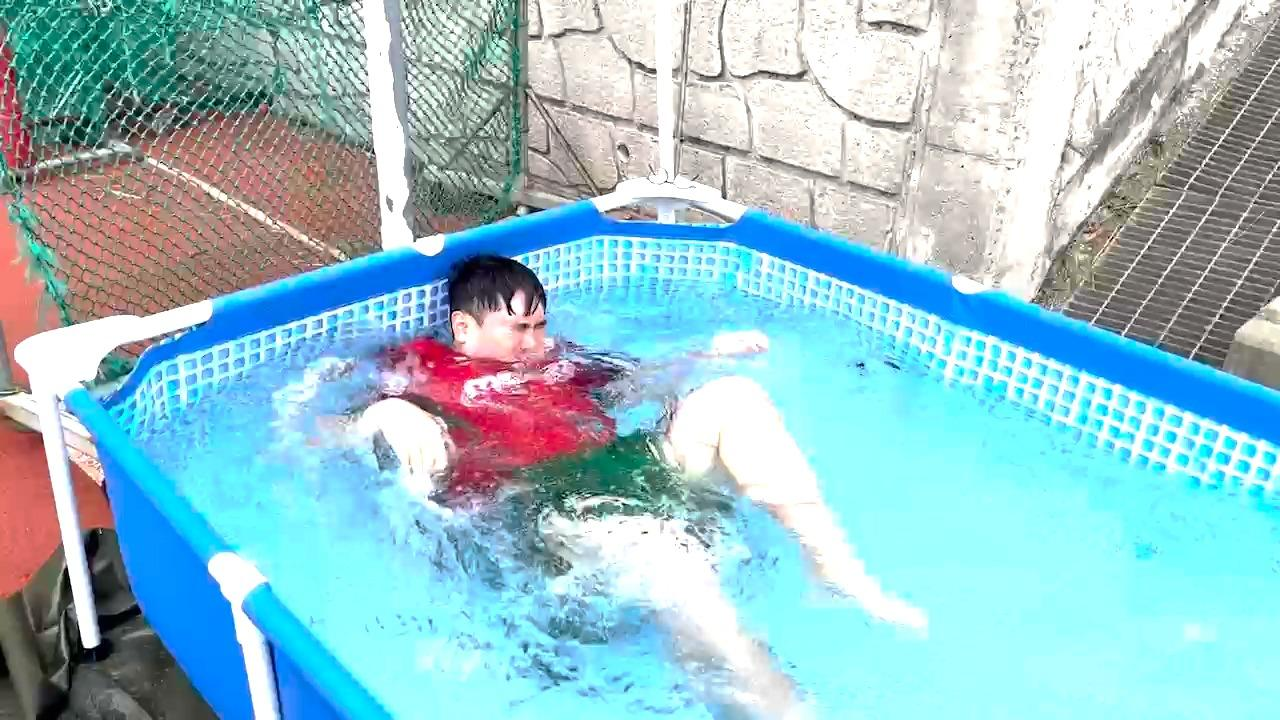Drowning: (323, 205, 909, 704)
